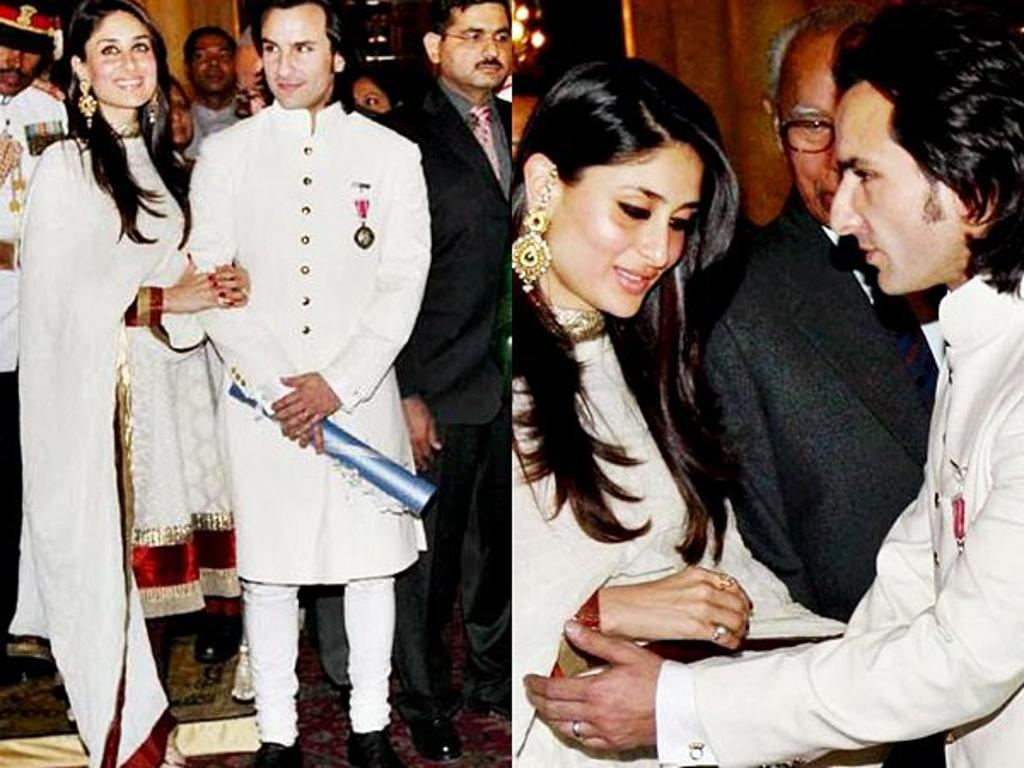face: (565, 150, 706, 320), (831, 99, 948, 296), (773, 39, 893, 230), (262, 17, 331, 110), (89, 24, 160, 110), (446, 10, 511, 87), (337, 82, 396, 139), (1, 32, 40, 96), (192, 36, 233, 92), (164, 89, 192, 143)
